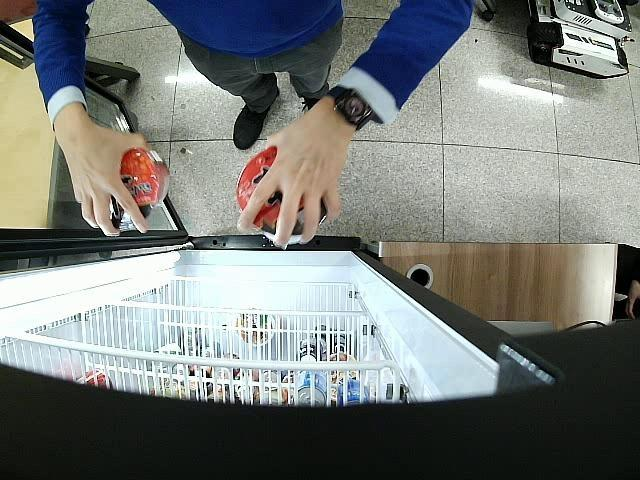01_ShinRamen_L: (236, 146, 328, 243), (109, 144, 171, 230)
